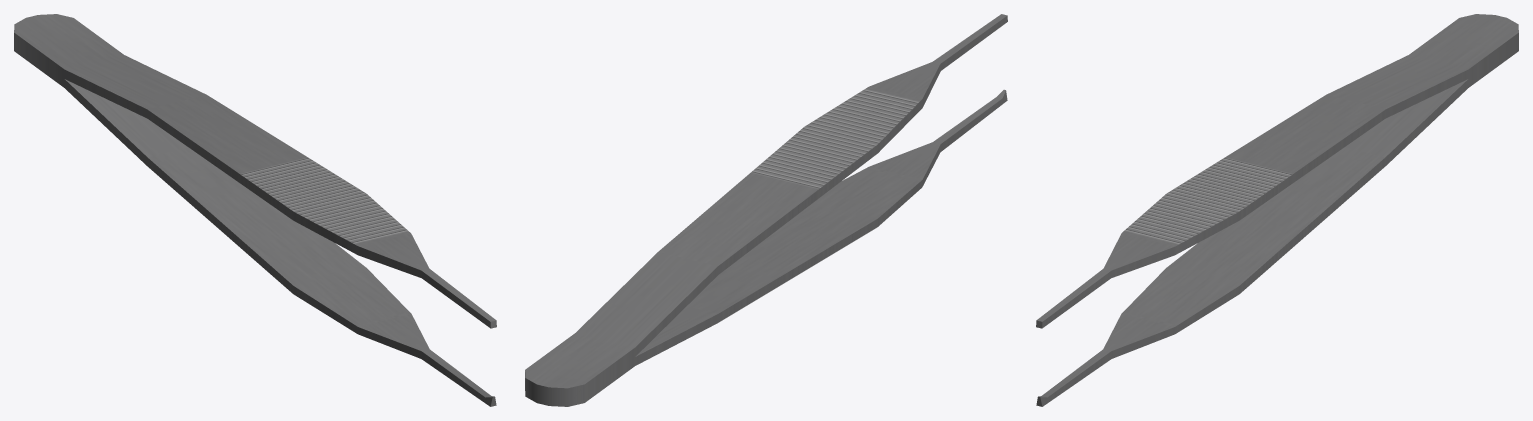
The model's file is metalForceps.fbx.
3 views of the same model, side by side, from view 1: azimuth 30°, elevation 25°; view 2: azimuth 150°, elevation 25°; view 3: azimuth 330°, elevation 25° (orthographic).
Parts seen in each view (by area): view 1: forceps; view 2: forceps; view 3: forceps.
Boxes of the visible parts, x1,y1,x2,y2 form: forceps: (14,14,496,406); forceps: (525,14,1007,406); forceps: (1036,14,1518,406).
Bounding box in the file's own units: 0.3874 × 0.448 × 4.23.
